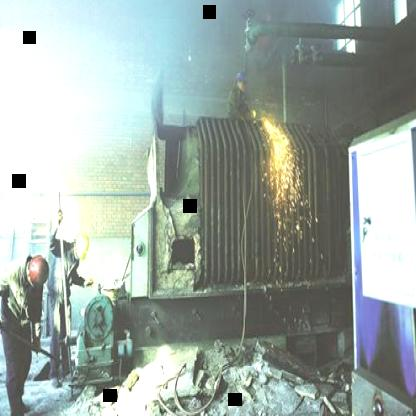helmet: (25, 254, 51, 289), (69, 231, 93, 265), (230, 68, 247, 94)
